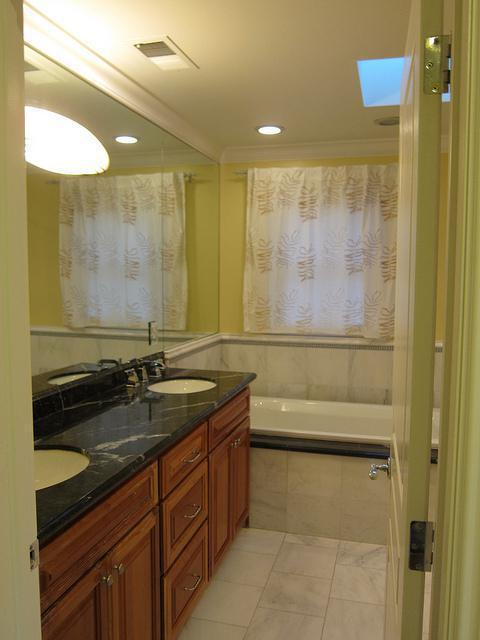Lavamanos: (19, 428, 95, 496), (131, 358, 221, 395)
